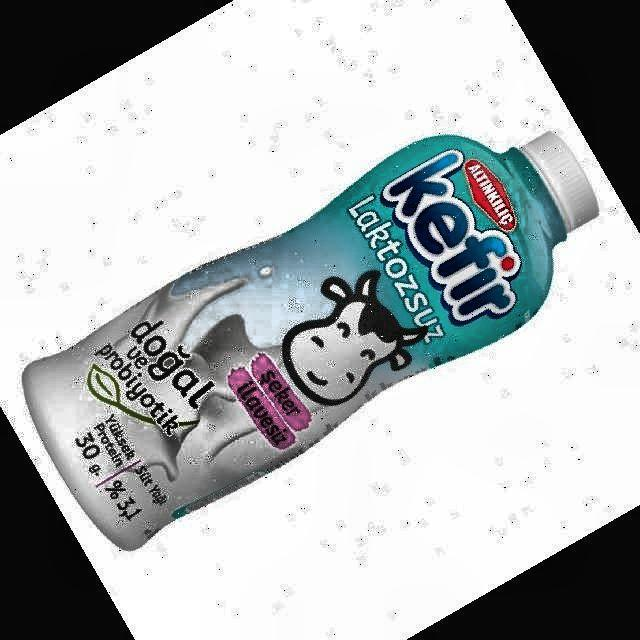plastic: (24, 134, 598, 549)
